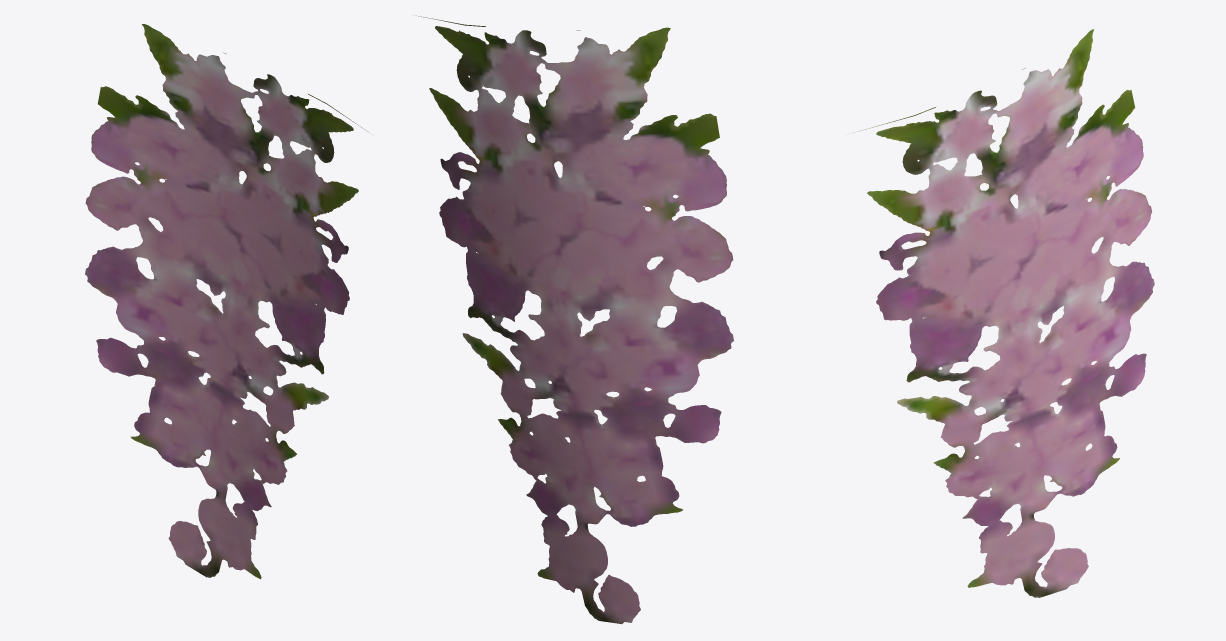
Rendered from liemo_plant_10 (13).fbx.
3 renders of one model, left to right at view 1: azimuth 30°, elevation 25°; view 2: azimuth 210°, elevation 25°; view 3: azimuth 270°, elevation 25°, orthographic. The views are drawn at different scales.
Visible parts, largest first — view 1: liemo_plant_10 (13); view 2: liemo_plant_10 (13); view 3: liemo_plant_10 (13).
Part boxes in pixels (x1,y1,x2,y2): liemo_plant_10 (13): (85,24,367,579); liemo_plant_10 (13): (416,15,733,624); liemo_plant_10 (13): (852,29,1154,597).
Bounding box in the file's own units: 0.4967 × 1.48 × 0.8661.
